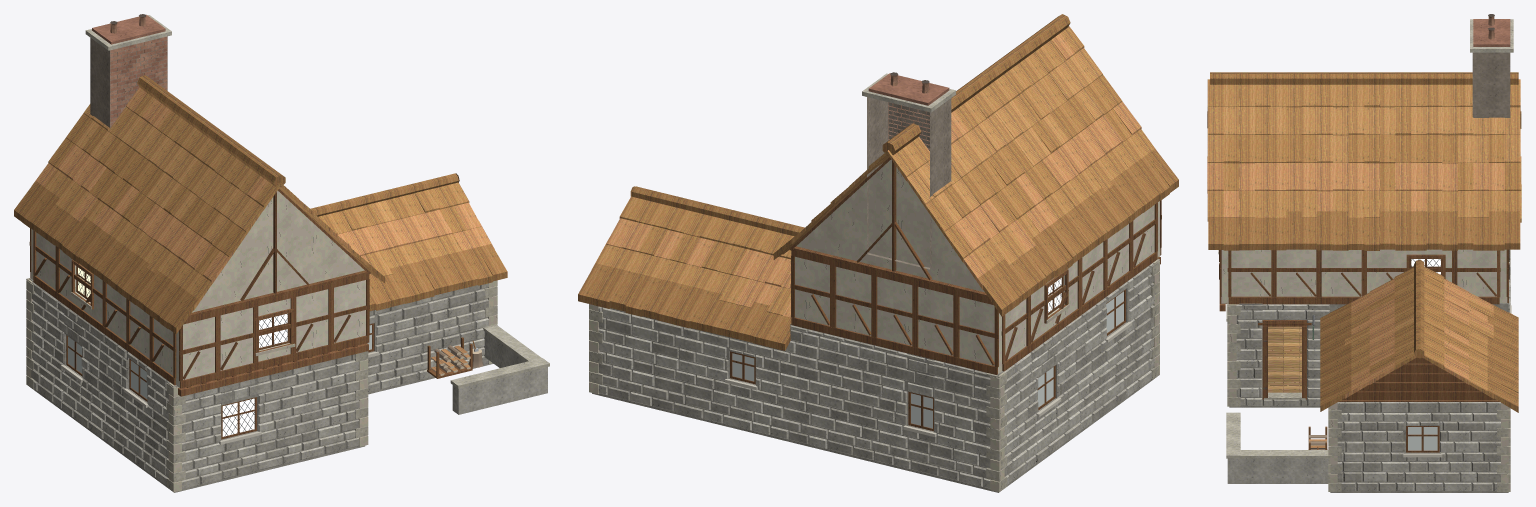
File: kitchen-character.glb
3 renders of one model, left to right at view 1: azimuth 30°, elevation 25°; view 2: azimuth 150°, elevation 25°; view 3: azimuth 270°, elevation 25°, orthographic. The views are drawn at different scales.
Parts seen in each view (by area): view 1: Kitchen_Roof_Thatch, Kitchen_Shell_Facing, Kitchen_UpperShell_Frame, Kitchen_Roof_Gables, Kitchen_Shell_Walls, Kitchen_Chimney_Stack, Kitchen_Court_Dressing, Kitchen_Shell_Quoins, Kitchen_Glazing_Windows, Kitchen_Court_DressingPropsWoodpile, Kitchen_UpperShell_Glazing; view 2: Kitchen_Roof_Thatch, Kitchen_Shell_Facing, Kitchen_UpperShell_Frame, Kitchen_Roof_Gables, Kitchen_Shell_Walls, Kitchen_Chimney_Stack, Kitchen_Shell_Quoins, Kitchen_Glazing_Windows; view 3: Kitchen_Roof_Thatch, Kitchen_Shell_Facing, Kitchen_UpperShell_Frame, Kitchen_Court_Dressing, Kitchen_Shell_Walls, Kitchen_Chimney_Stack, Kitchen_Roof_StoreGable, Kitchen_Shell_Quoins, Kitchen_Floor_Flags, Kitchen_Glazing_Windows, Kitchen_Shell_DoorFrame, Kitchen_Court_DressingPropsWoodpile.
Boxes of the visible parts, left/top/right/bottom form: Kitchen_Roof_Thatch: left=14, top=75, right=507, bottom=334; Kitchen_Shell_Facing: left=28, top=282, right=493, bottom=488; Kitchen_UpperShell_Frame: left=29, top=228, right=369, bottom=396; Kitchen_Roof_Gables: left=188, top=189, right=370, bottom=317; Kitchen_Shell_Walls: left=29, top=278, right=493, bottom=492; Kitchen_Chimney_Stack: left=85, top=14, right=171, bottom=128; Kitchen_Court_Dressing: left=450, top=325, right=549, bottom=414; Kitchen_Shell_Quoins: left=26, top=278, right=497, bottom=492; Kitchen_Glazing_Windows: left=61, top=323, right=378, bottom=444; Kitchen_Court_DressingPropsWoodpile: left=427, top=337, right=483, bottom=378; Kitchen_UpperShell_Glazing: left=71, top=266, right=295, bottom=356; Kitchen_Roof_Thatch: left=578, top=14, right=1178, bottom=350; Kitchen_Shell_Facing: left=593, top=263, right=1157, bottom=488; Kitchen_UpperShell_Frame: left=790, top=200, right=1161, bottom=374; Kitchen_Roof_Gables: left=789, top=157, right=988, bottom=297; Kitchen_Shell_Walls: left=592, top=273, right=1152, bottom=492; Kitchen_Chimney_Stack: left=862, top=72, right=955, bottom=269; Kitchen_Shell_Quoins: left=589, top=259, right=1159, bottom=492; Kitchen_Glazing_Windows: left=725, top=289, right=1131, bottom=437; Kitchen_Roof_Thatch: left=1207, top=72, right=1521, bottom=412; Kitchen_Shell_Facing: left=1230, top=250, right=1510, bottom=490; Kitchen_UpperShell_Frame: left=1219, top=249, right=1509, bottom=311; Kitchen_Court_Dressing: left=1226, top=315, right=1328, bottom=483; Kitchen_Shell_Walls: left=1229, top=303, right=1508, bottom=492; Kitchen_Chimney_Stack: left=1470, top=14, right=1513, bottom=117; Kitchen_Roof_StoreGable: left=1338, top=357, right=1499, bottom=401; Kitchen_Shell_Quoins: left=1227, top=250, right=1510, bottom=491; Kitchen_Floor_Flags: left=1268, top=326, right=1301, bottom=392; Kitchen_Glazing_Windows: left=1226, top=304, right=1511, bottom=457; Kitchen_Shell_DoorFrame: left=1258, top=320, right=1311, bottom=399; Kitchen_Court_DressingPropsWoodpile: left=1308, top=426, right=1327, bottom=449.
Bounding box in the file's own units: 12.88 × 11.1 × 9.35.
Materials: 21 (5 with a texture image).
